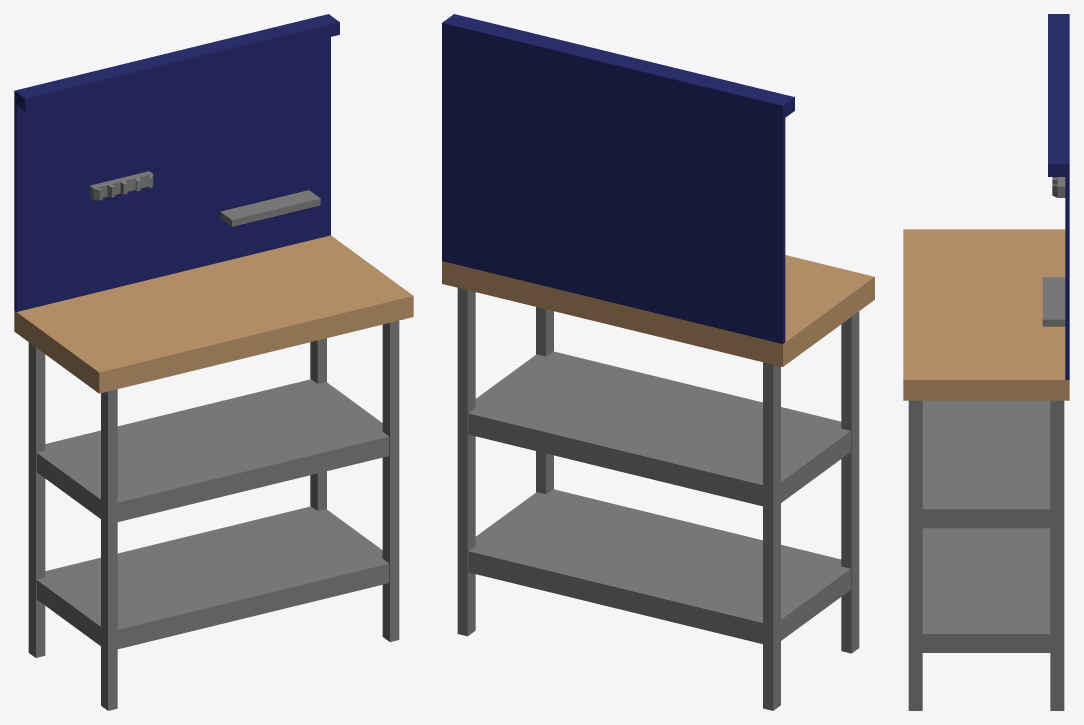
File: Workbench.fbx
3 views of the same model, side by side, from view 1: azimuth 30°, elevation 25°; view 2: azimuth 150°, elevation 25°; view 3: azimuth 270°, elevation 25° (orthographic). The views are drawn at different scales.
Visible parts, largest first — view 1: Workbench; view 2: Workbench; view 3: Workbench.
Boxes of the visible parts, x1,y1,x2,y2 form: Workbench: [14, 14, 413, 710]; Workbench: [442, 14, 874, 710]; Workbench: [903, 14, 1069, 710].
Size of the model in its own units: 102 by 175 by 47.71.
